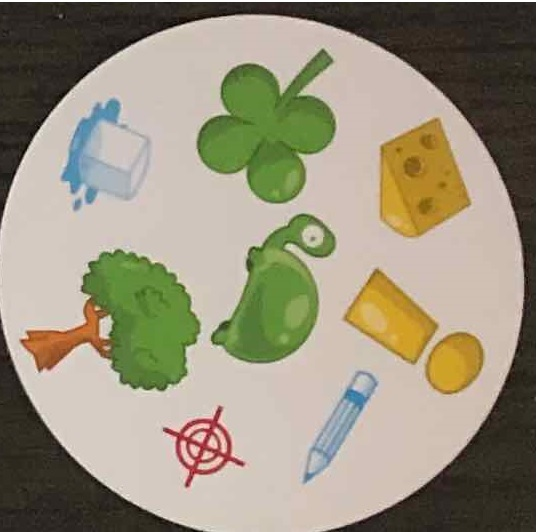arbre: (15, 240, 206, 392)
cible: (159, 401, 250, 492)
crayon: (295, 369, 388, 491)
fromage: (367, 116, 479, 241)
glacon: (55, 94, 163, 220)
point_exclamation: (336, 263, 487, 397)
tortue: (206, 204, 341, 368)
trefle: (193, 46, 348, 211)
